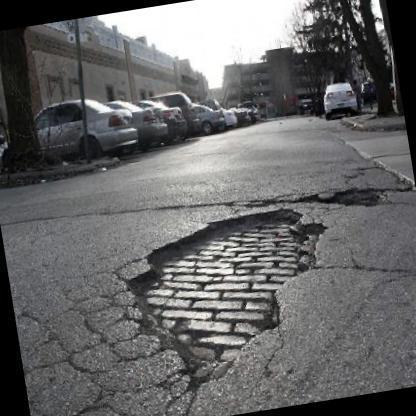pothole: (122, 205, 328, 388), (295, 181, 383, 208)
